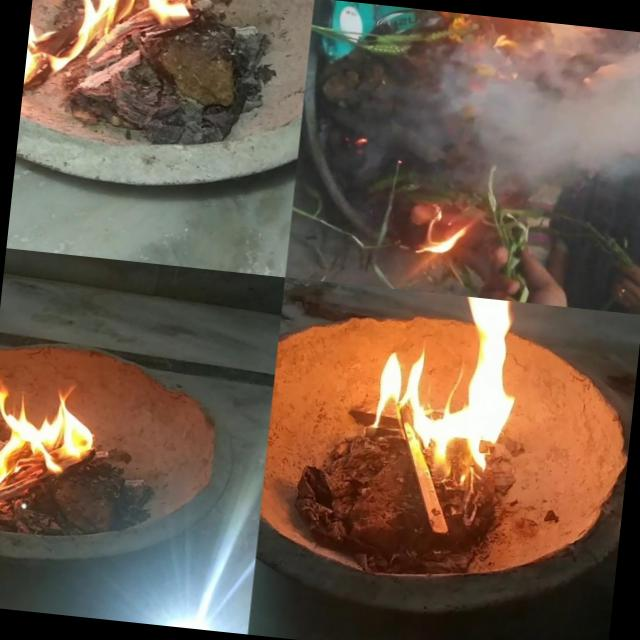fire: (361, 287, 548, 483), (22, 0, 203, 104), (0, 364, 111, 517), (493, 218, 578, 307)
smoke: (565, 27, 640, 315), (513, 19, 596, 70)
